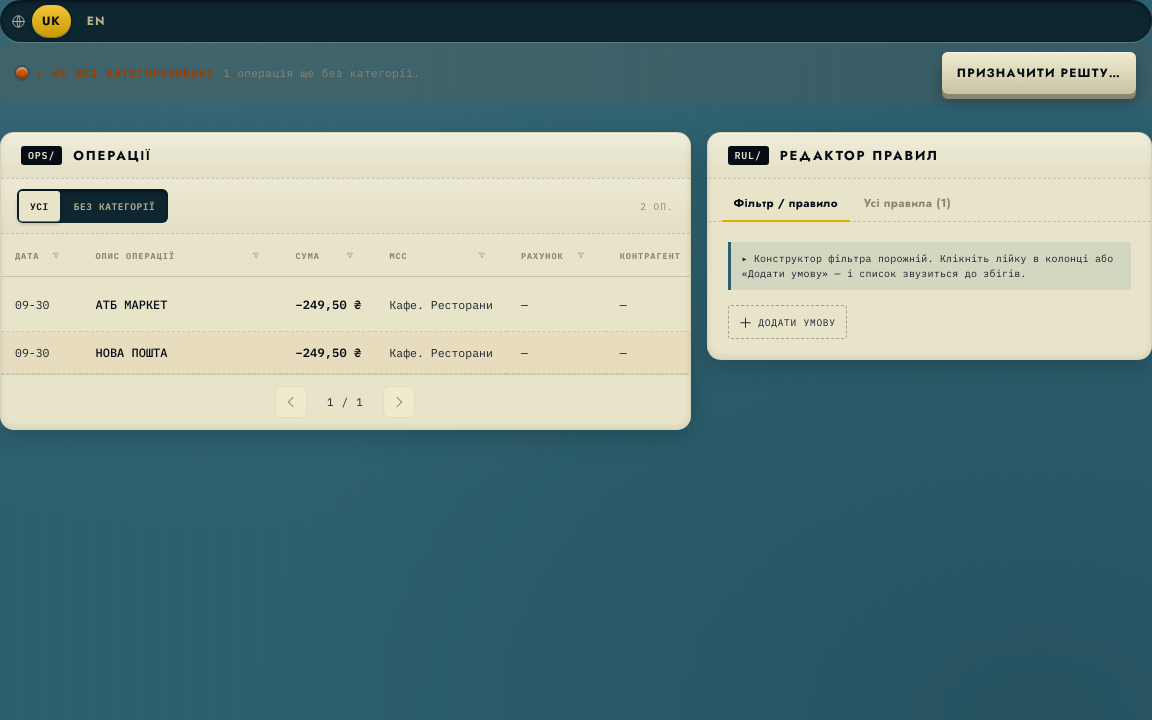
Test: S3cCategorize › the rules-list tab shows the rules + "first-match-wins"
The width and height of the screenshot is (1152, 720).
Note: switch to the rules tab
Click the button "Усі правила (1)".
click(907, 204)  # box [852, 187, 963, 222]
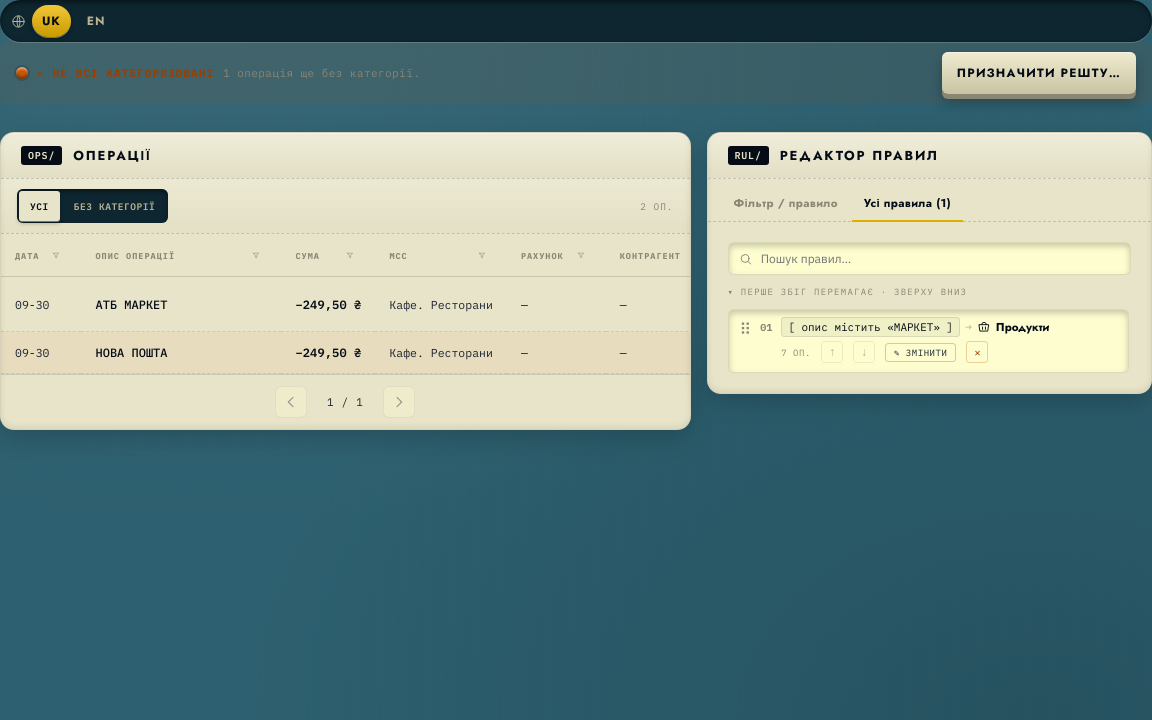
Check: the text "▾ ПЕРШЕ ЗБІГ ПЕРЕМАГАЄ · ЗВЕРХУ ВНИЗ" is shown, box [728, 286, 967, 297]
